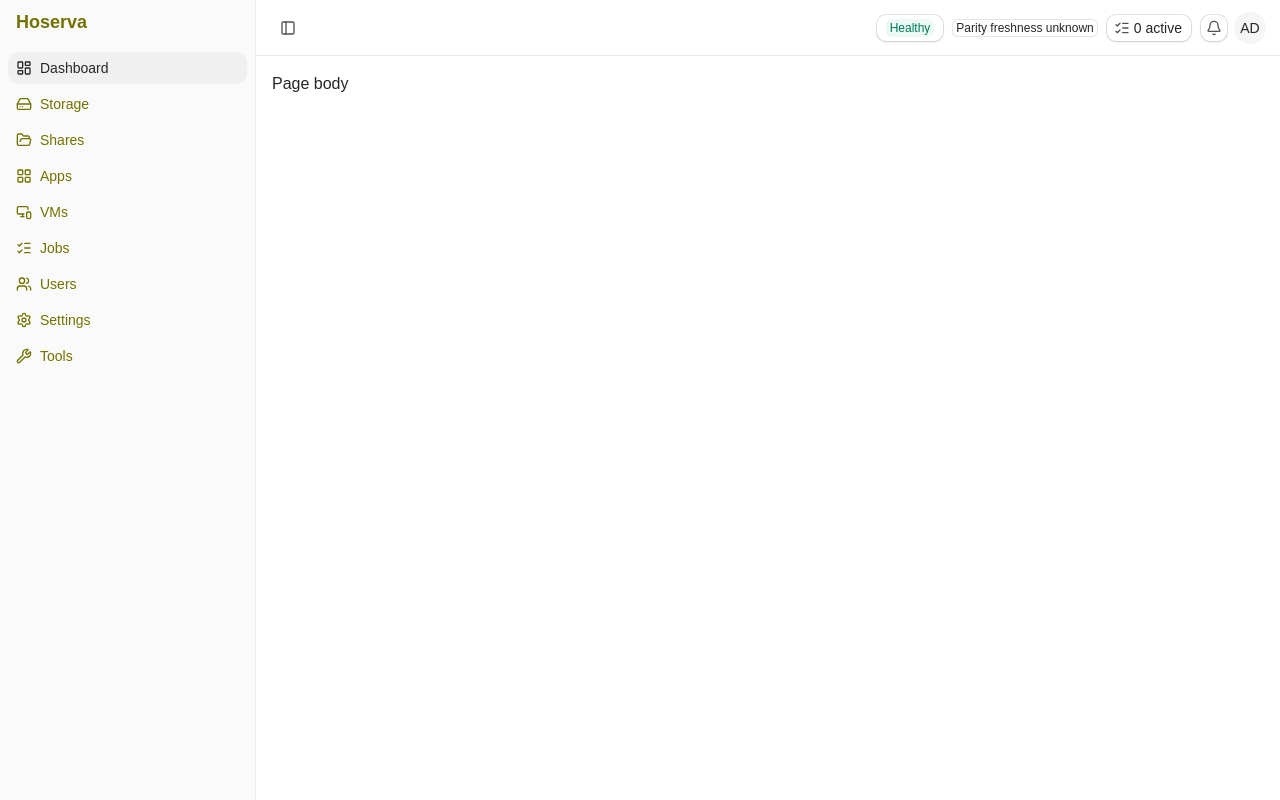
it: TopBar notifications load failures › shows a notifications error instead of the empty inbox copy when /notifications fails
This screenshot has width=1280, height=800.
Click the button named "Notifications".
click(1214, 28)  # box [1200, 14, 1228, 42]
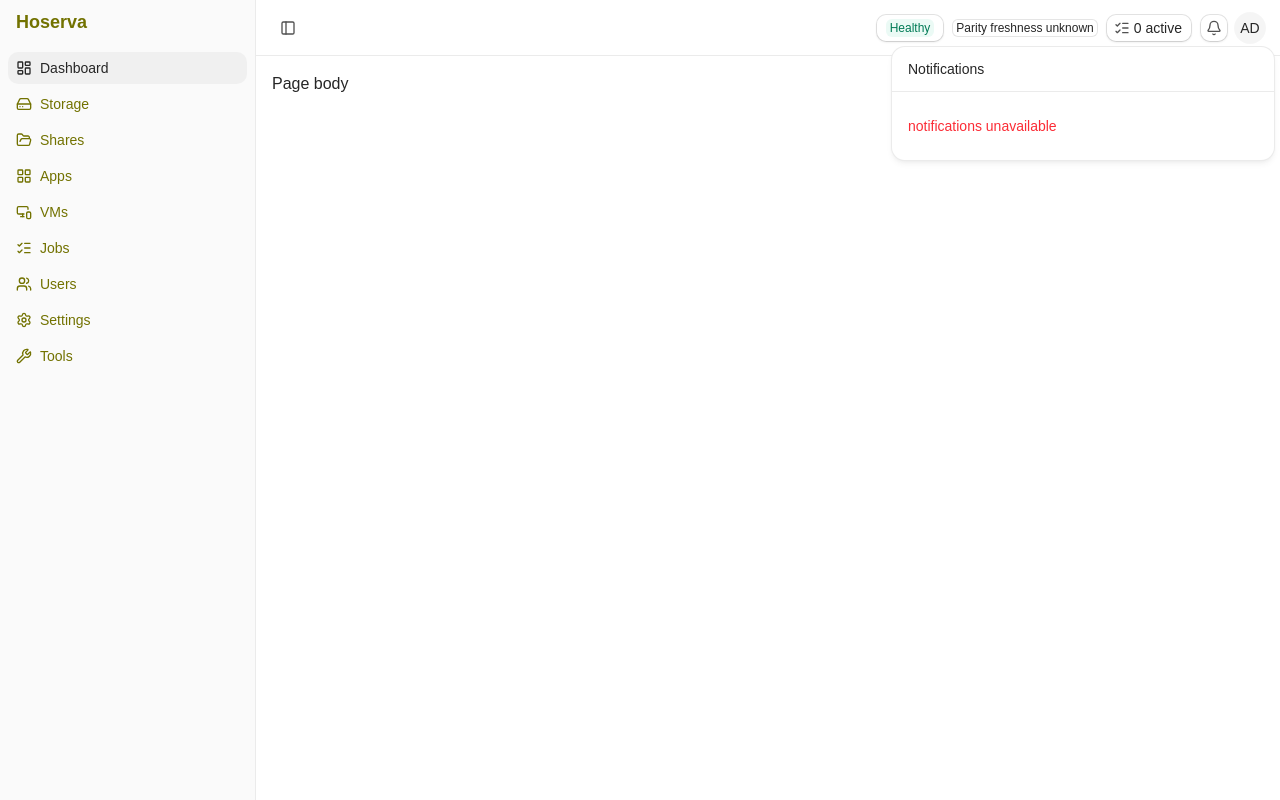
Result: the message reads "notifications unavailable" at [908, 118, 1057, 134]
